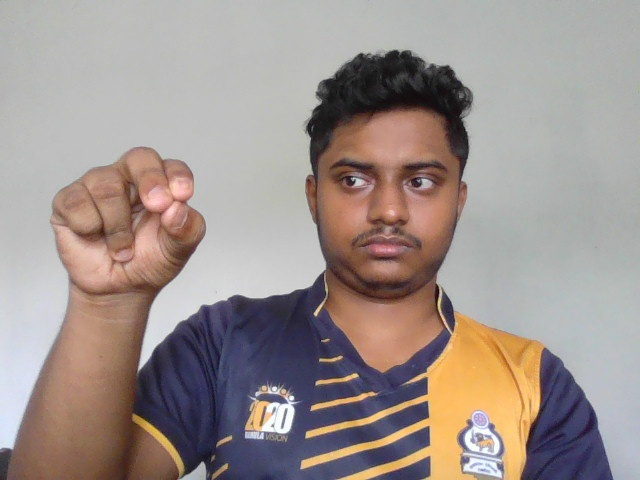No: (47, 140, 218, 298)
